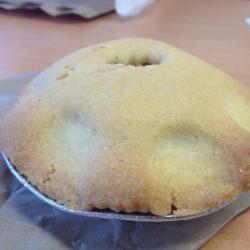apple_pie: (2, 35, 248, 225)
